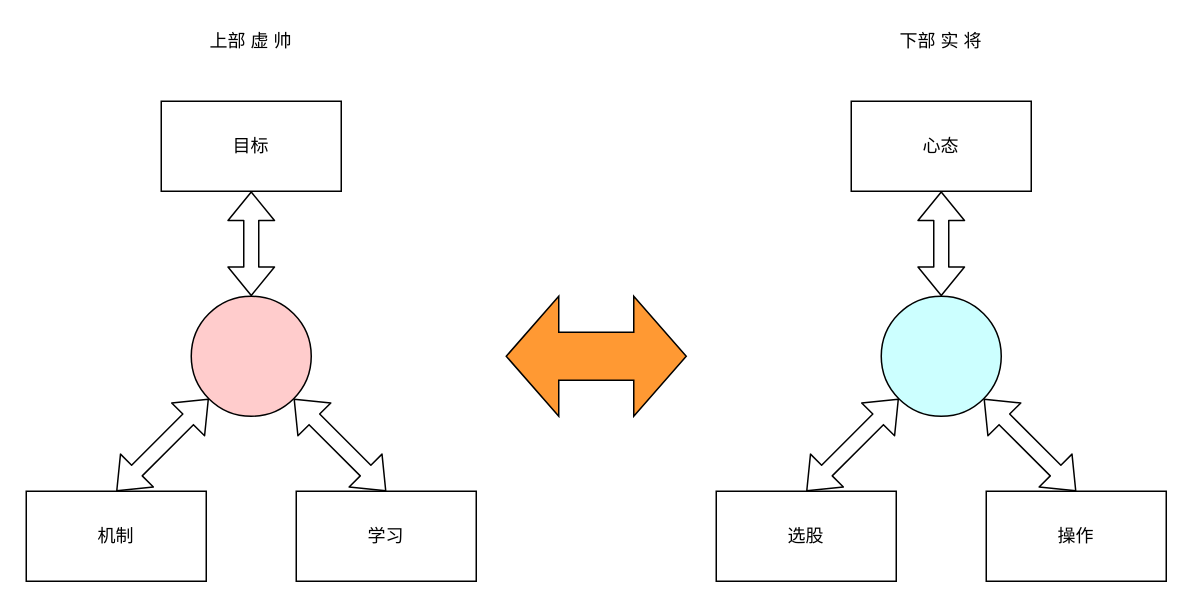
The diagram is 1193 pixels wide and 608 high, and some of its shapes have lost their labels. Each missing label, with the centre of its shape:
理念: pixel 940 355
相辅相成: pixel 595 355
红线: pixel 250 355
